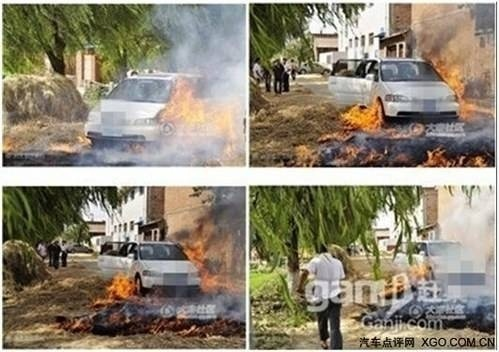fire: (156, 72, 244, 158), (174, 217, 245, 297), (378, 253, 433, 297), (93, 259, 148, 303)
